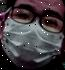with_mask: (2, 2, 65, 70)
